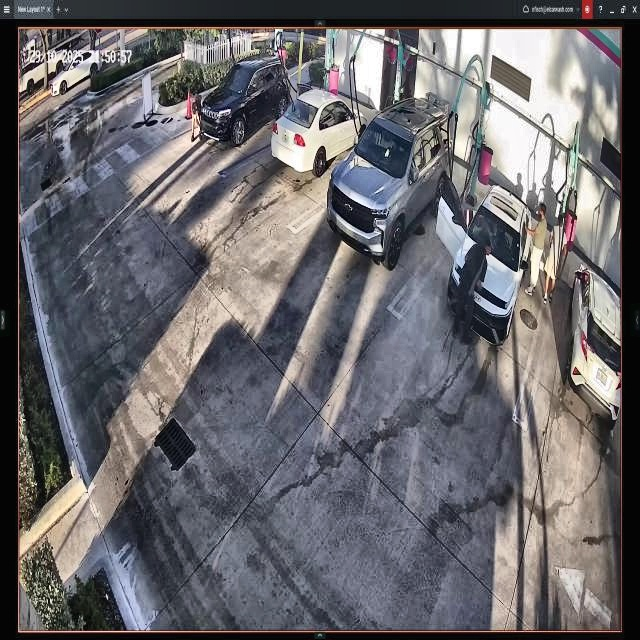Car: (328, 101, 452, 264), (440, 168, 530, 336), (273, 84, 367, 170)
